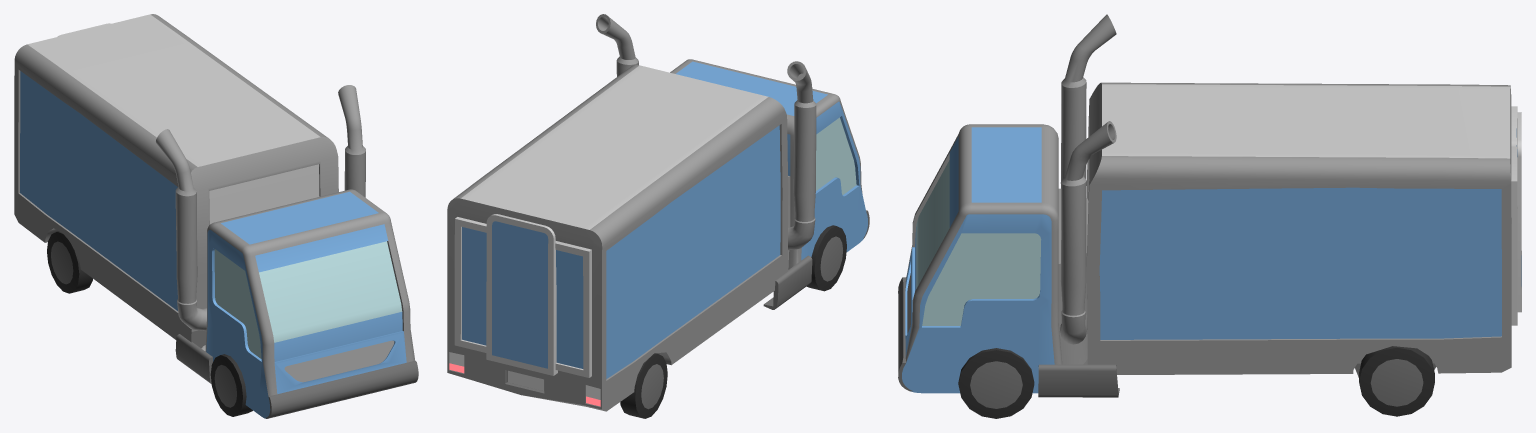
File: Truck_hc_gameready.fbx
3 renders of one model, left to right at view 1: azimuth 30°, elevation 25°; view 2: azimuth 150°, elevation 25°; view 3: azimuth 270°, elevation 25°, orthographic. The views are drawn at different scales.
Visible parts, largest first — view 1: TruckV2; view 2: TruckV2, door_ramp.001, door_left.003, door_left.002; view 3: TruckV2, door_left.002, door_ramp.001.
Part boxes in pixels (<box>): TruckV2: <box>14,14,418,418</box>; TruckV2: <box>447,14,869,418</box>; door_ramp.001: <box>486,214,557,375</box>; door_left.003: <box>555,241,591,377</box>; door_left.002: <box>454,217,486,352</box>; TruckV2: <box>898,14,1511,418</box>; door_left.002: <box>1511,146,1517,325</box>; door_ramp.001: <box>1516,112,1521,312</box>.
Size of the model in its own units: 2.91 by 3.54 by 6.56.
